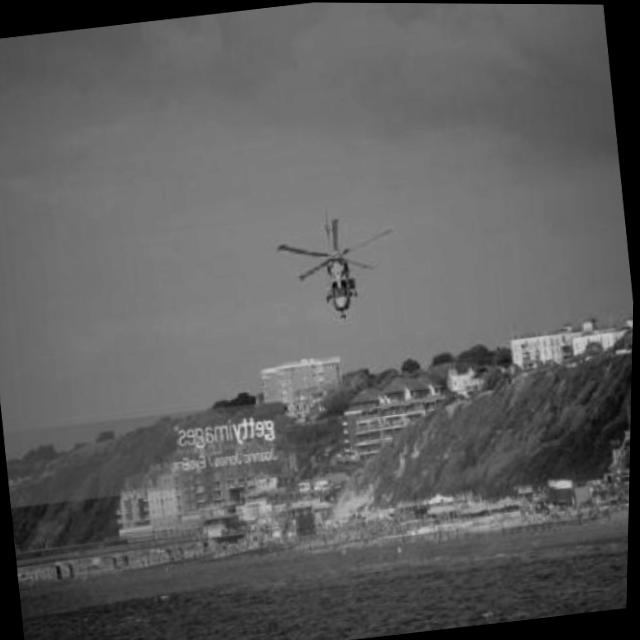helikopter: (270, 199, 415, 340)
